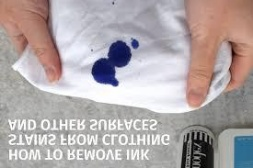ink: (92, 58, 118, 87), (109, 43, 132, 66), (132, 39, 138, 50)
